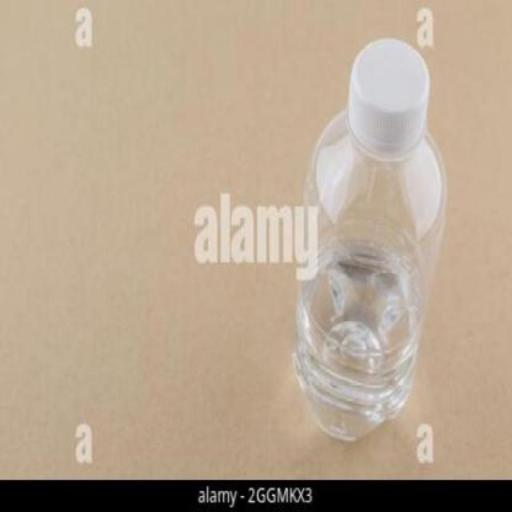Coca: (284, 32, 452, 451)
